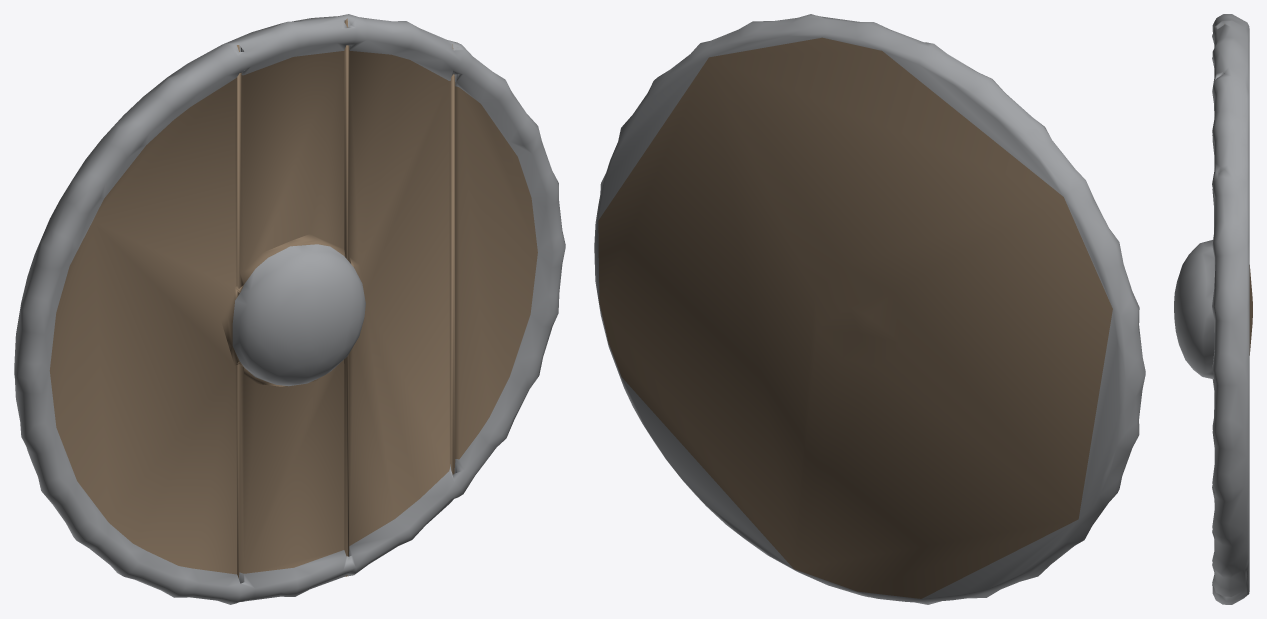
The model's file is Shield.fbx.
3 renders of one model, left to right at view 1: azimuth 30°, elevation 25°; view 2: azimuth 150°, elevation 25°; view 3: azimuth 270°, elevation 25°, orthographic. The views are drawn at different scales.
Parts seen in each view (by area): view 1: Shield; view 2: Shield; view 3: Shield.
Part boxes in pixels (x1,y1,x2,y2): Shield: [14, 14, 565, 604]; Shield: [594, 14, 1145, 604]; Shield: [1174, 14, 1252, 604].
Bounding box in the file's own units: 30.79 × 30.79 × 4.1.
